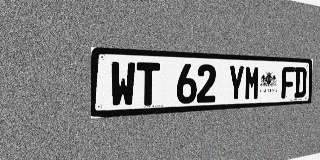2: (197, 64, 216, 103)
6: (177, 63, 197, 104)
D: (294, 67, 307, 98)
F: (281, 67, 295, 99)
M: (244, 65, 260, 100)
T: (136, 62, 160, 106)
W: (110, 61, 136, 108)
Y: (228, 65, 245, 101)
